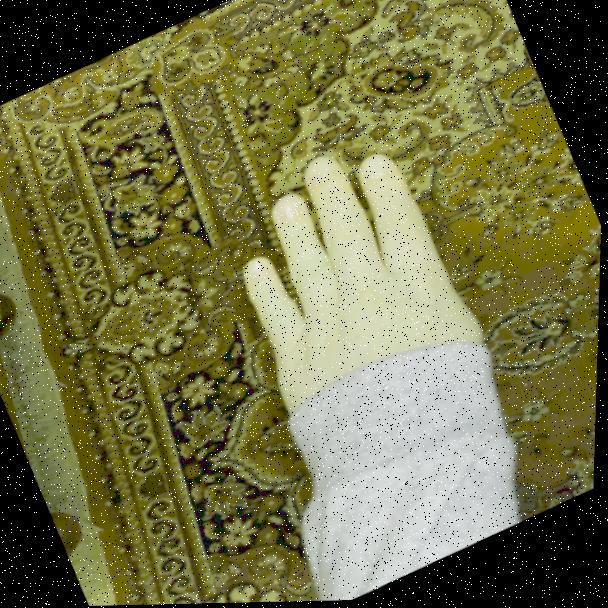four: (179, 112, 512, 470)
